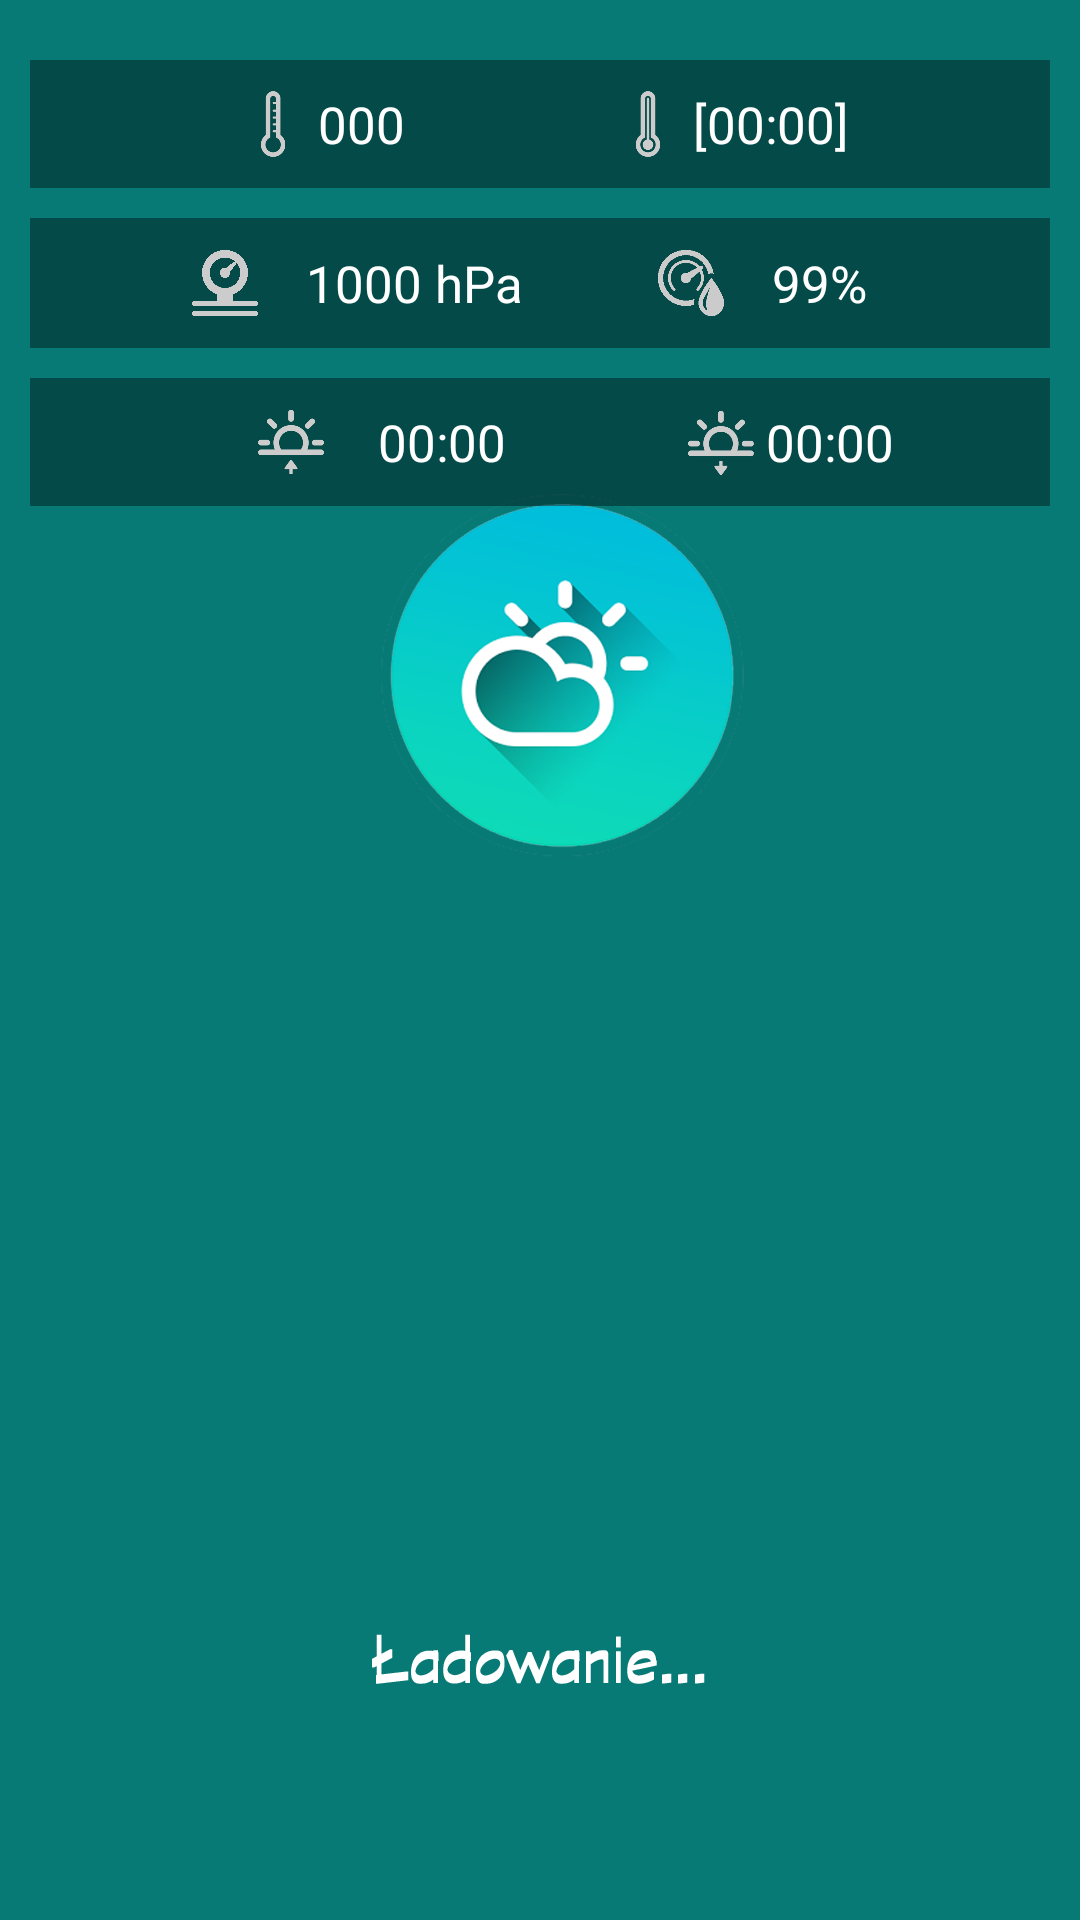

Named icons in this screenshot (1080px×1920px) and their centers, (x=x, y=y):
humidity: (x=691, y=283)
pressure: (x=225, y=283)
